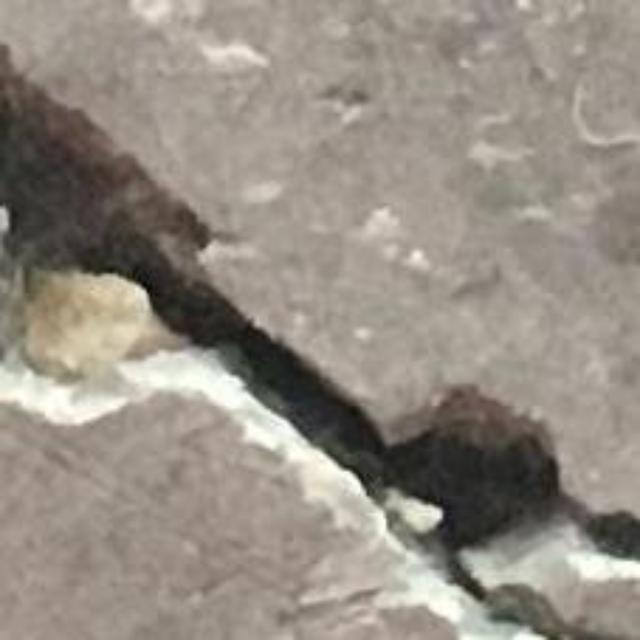crack: (0, 43, 639, 639)
